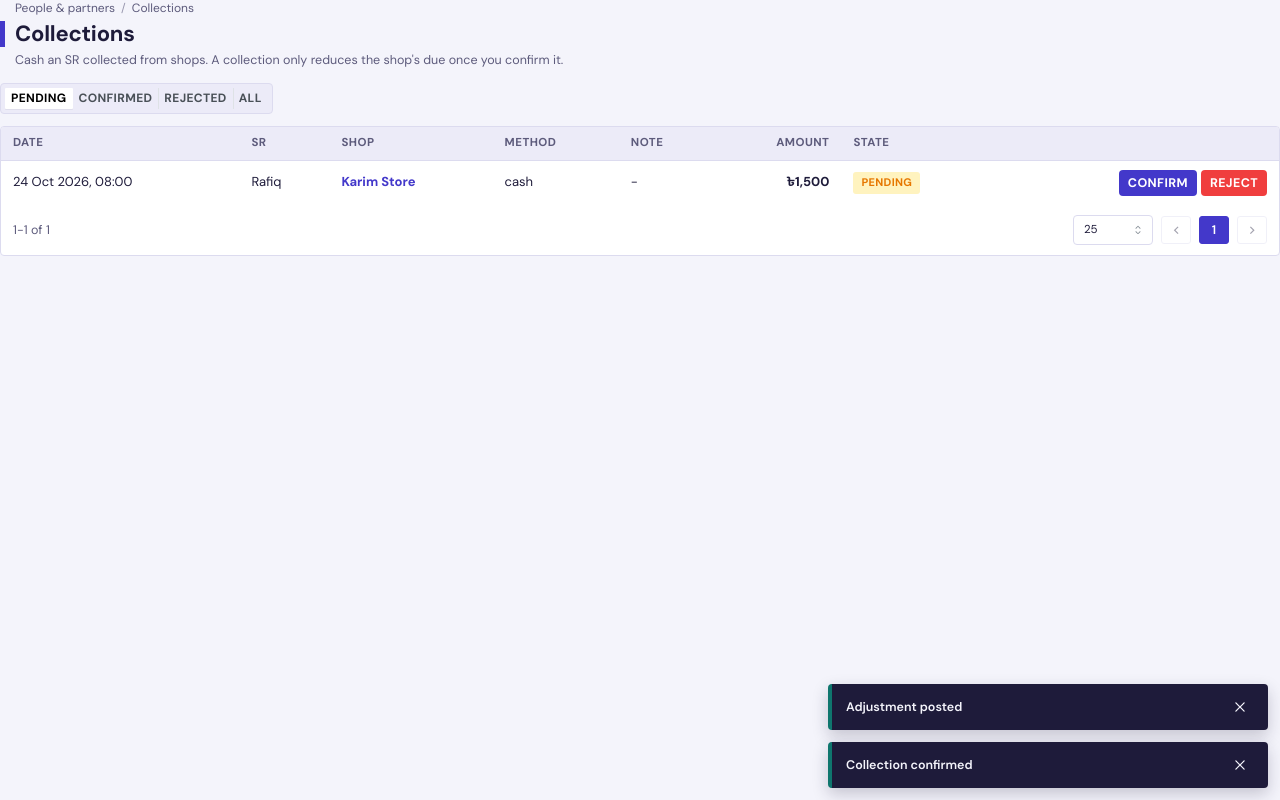
Test case: CollectionsPage › explains a self-confirm refusal
The image size is (1280, 800).
Step 1. Click the button "Confirm" → x=1158, y=183, box [1119,170,1197,196]
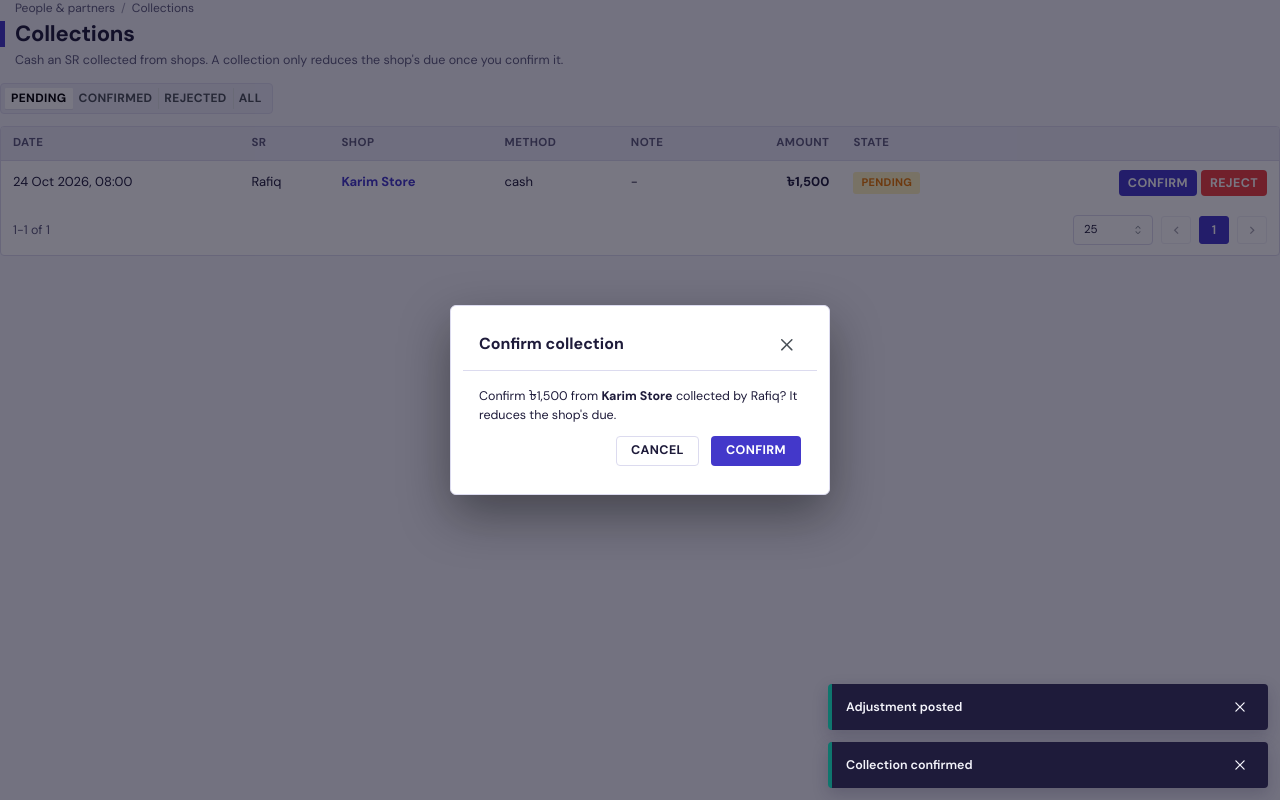
Step 2. Click the button "Confirm" → x=756, y=451, box [711,436,801,466]
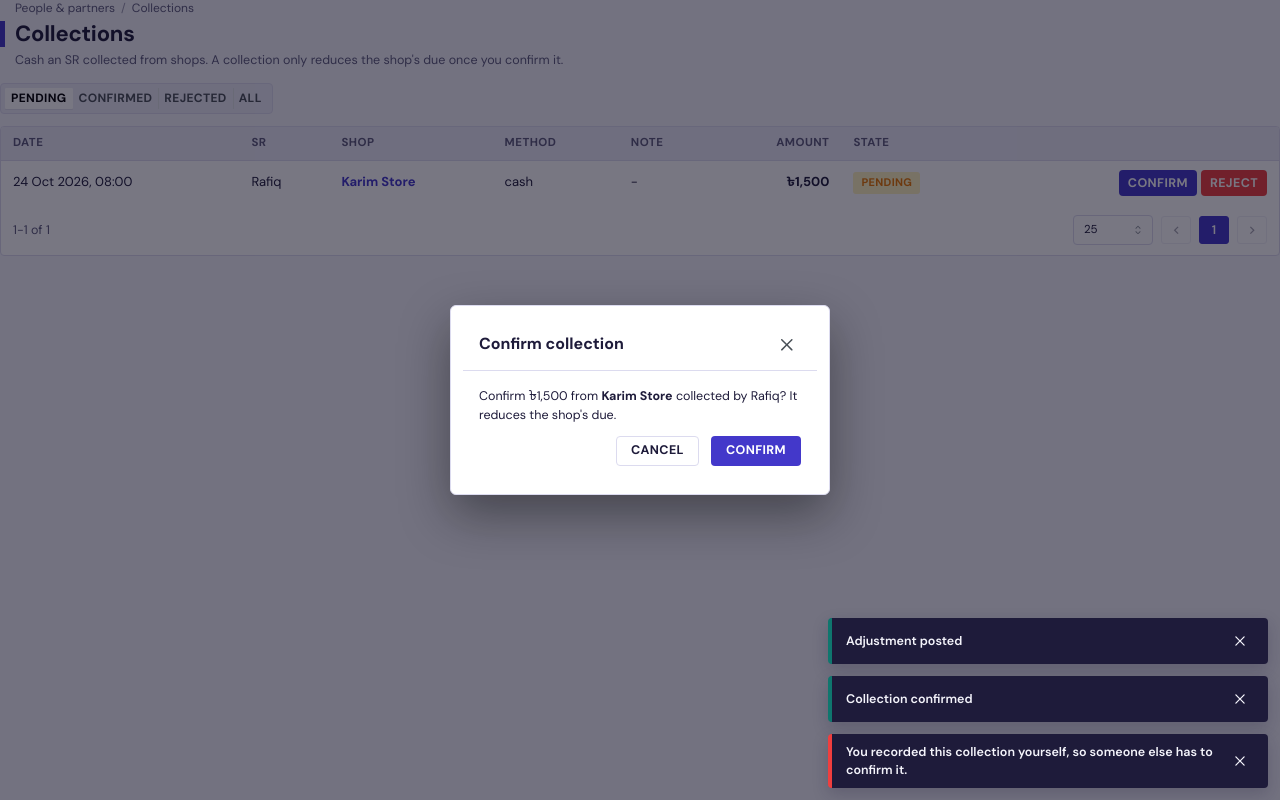
Check: the text "someone else has to confirm" is shown, box [846,744,1213,778]
